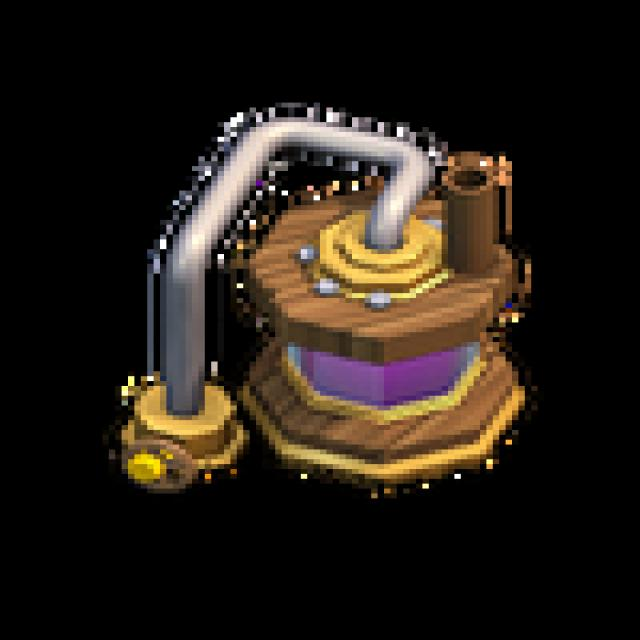elixir_collector: (80, 101, 560, 524)
